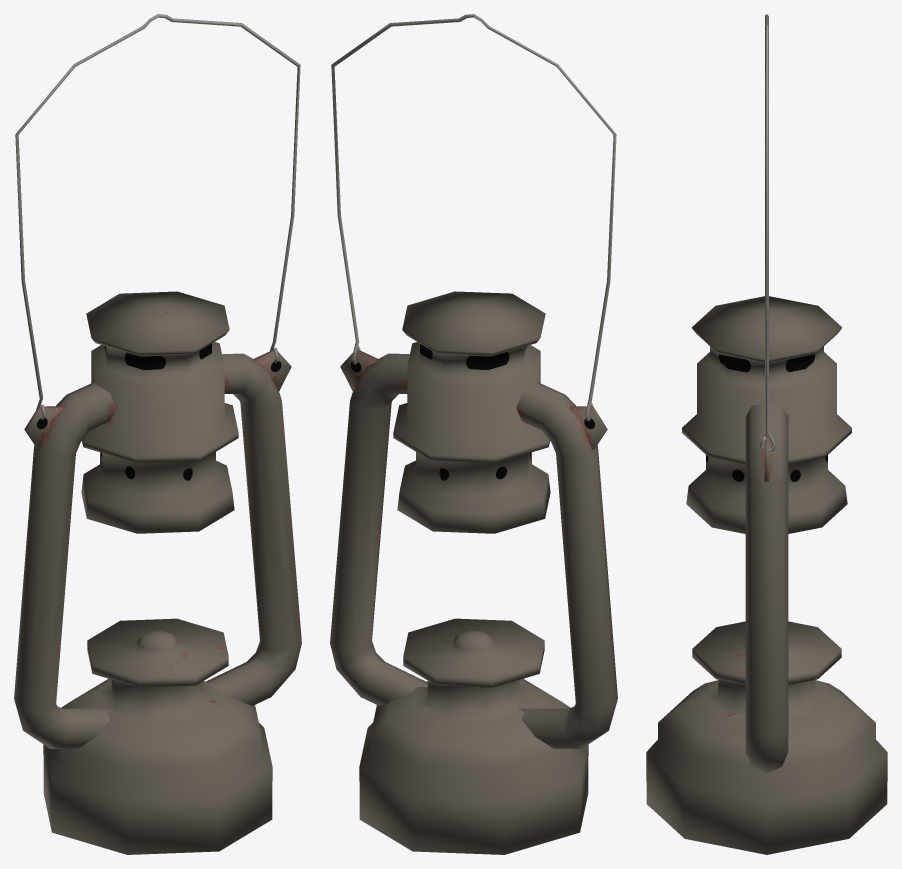
File: lamp_lowpoly.fbx
3 renders of one model, left to right at view 1: azimuth 30°, elevation 25°; view 2: azimuth 150°, elevation 25°; view 3: azimuth 270°, elevation 25°, orthographic.
Visible parts, largest first — view 1: lamp.lowpoly; view 2: lamp.lowpoly; view 3: lamp.lowpoly.
Boxes of the visible parts, x1,y1,x2,y2 form: lamp.lowpoly: [14, 14, 301, 854]; lamp.lowpoly: [330, 14, 617, 854]; lamp.lowpoly: [646, 14, 887, 854].
Bounding box in the file's own units: 17.19 × 45.63 × 12.81.
